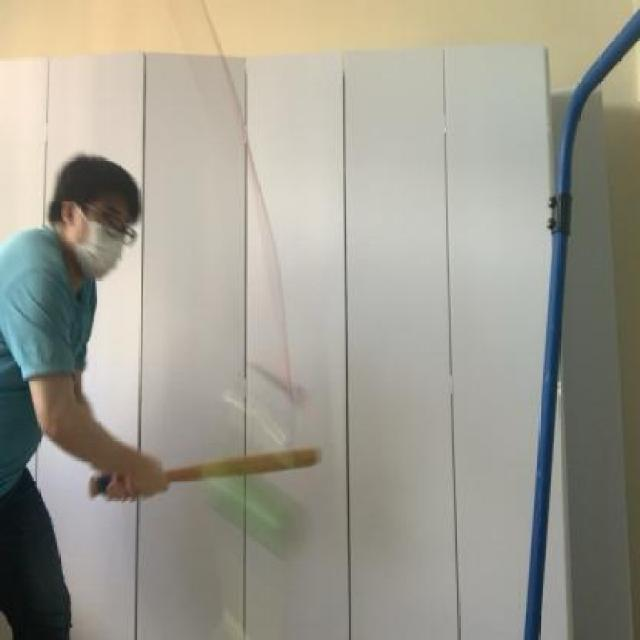baseball: (196, 447, 298, 564)
